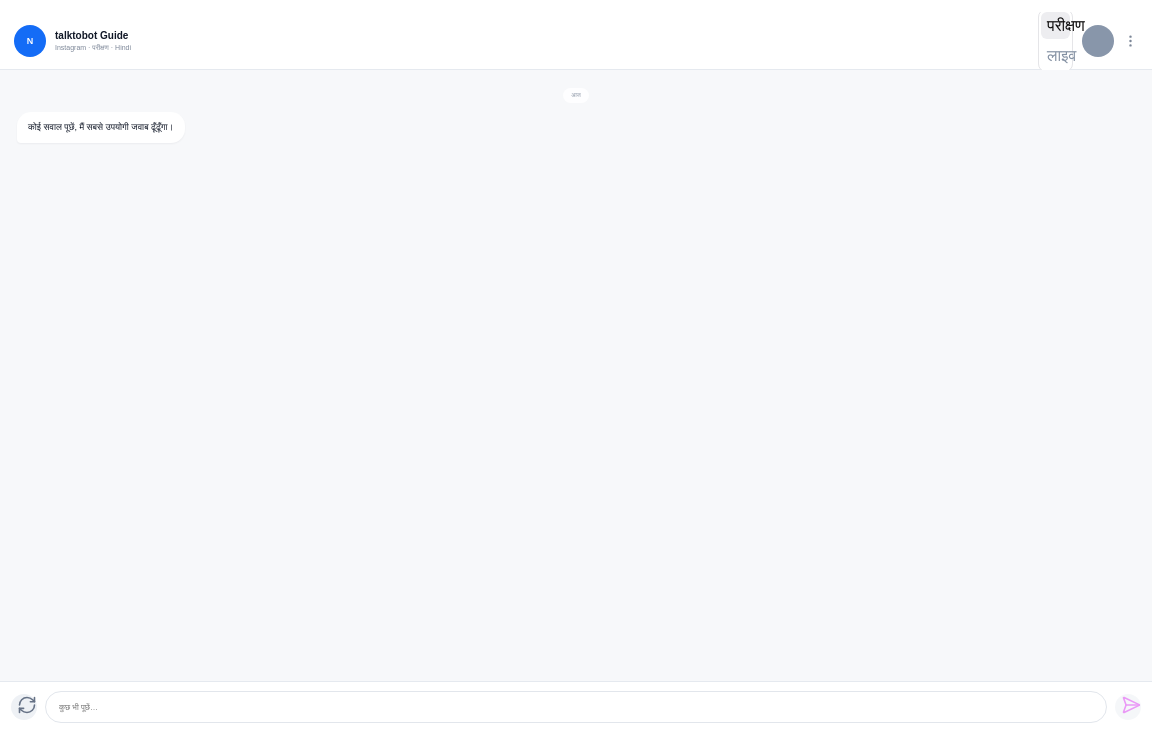
Test: Interactive channel workspace › uses the selected language in an Instagram-style interactive preview
Check: the text "कोई सवाल पूछें, मैं सबसे उपयोगी जवाब ढूँढूँगा।" is shown, box [17, 112, 184, 143]
Check: the button "परीक्षण" is shown, box [1041, 12, 1070, 39]
In the field named "Test channel message": point(576, 707) [57, 702, 1095, 712], type "hello"
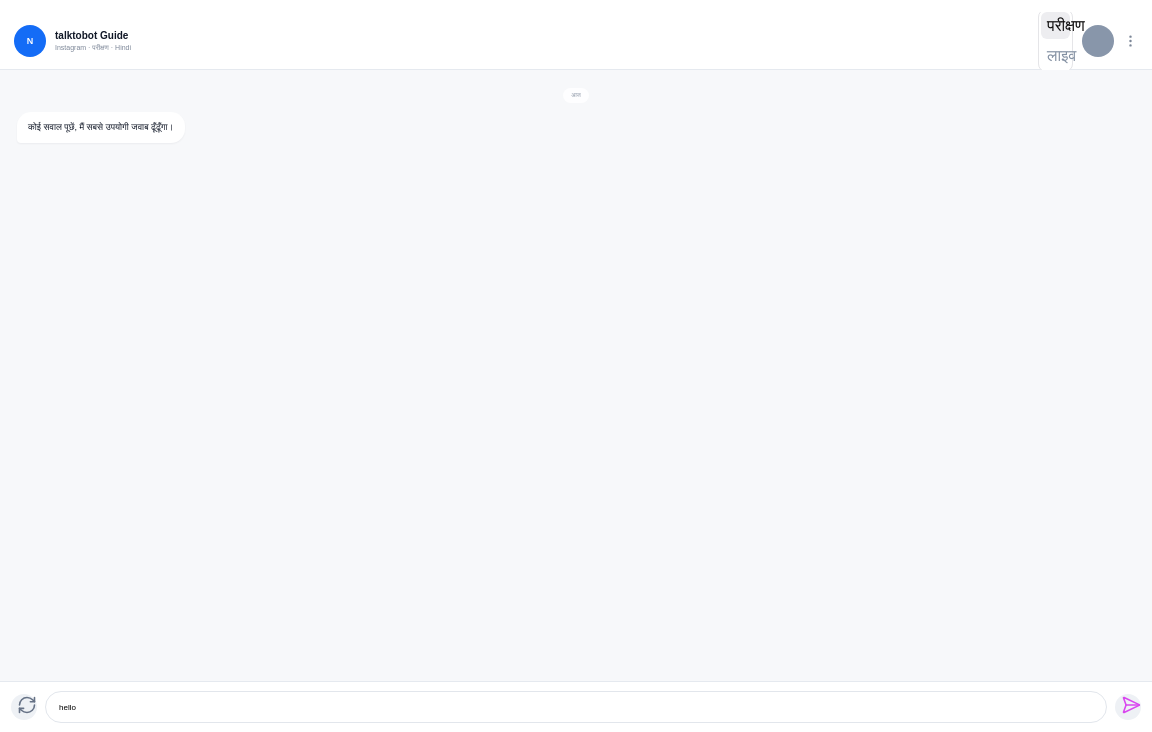
Click the button named "Send test message": point(1128, 707) [1115, 694, 1141, 720]
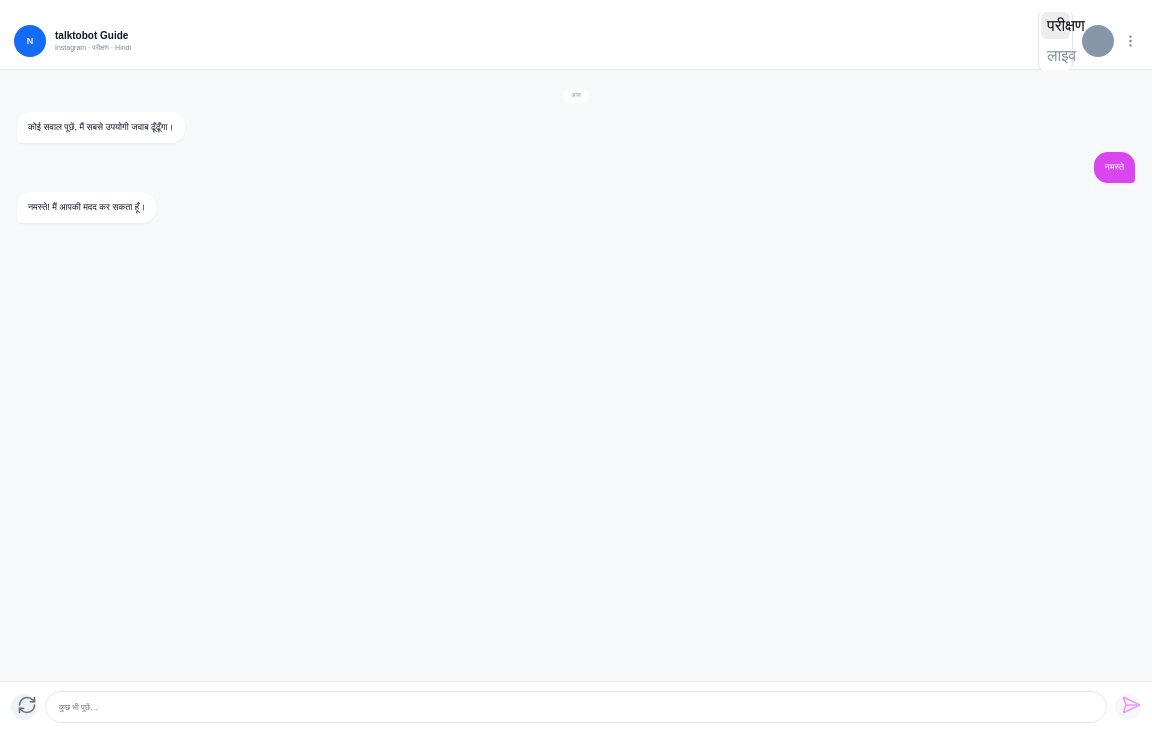
Check: the text "नमस्ते" is shown, box [1094, 152, 1135, 183]
Check: the text "नमस्ते! मैं आपकी मदद कर सकता हूँ।" is shown, box [17, 192, 156, 223]
